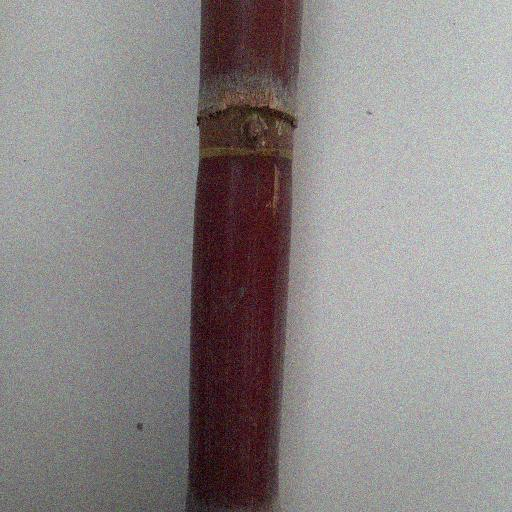Bud: (239, 111, 267, 149)
